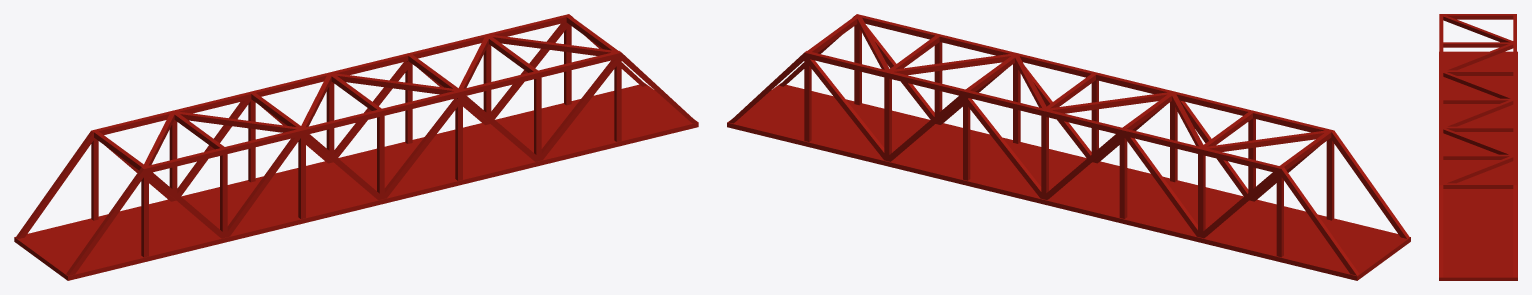
The model's file is trussbridge.obj.
3 renders of one model, left to right at view 1: azimuth 30°, elevation 25°; view 2: azimuth 150°, elevation 25°; view 3: azimuth 270°, elevation 25°, orthographic. The views are drawn at different scales.
Visible parts, largest first — view 1: Cube_Cube.006; view 2: Cube_Cube.006; view 3: Cube_Cube.006.
Boxes of the visible parts, x1,y1,x2,y2 form: Cube_Cube.006: [14, 14, 698, 280]; Cube_Cube.006: [727, 14, 1410, 280]; Cube_Cube.006: [1439, 14, 1517, 280].
Bounding box in the file's own units: 29.4 × 4.14 × 4.33.
